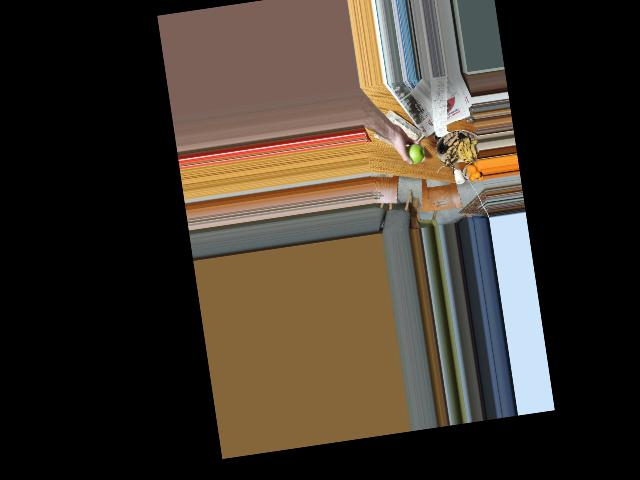apple: (401, 140, 426, 167)
